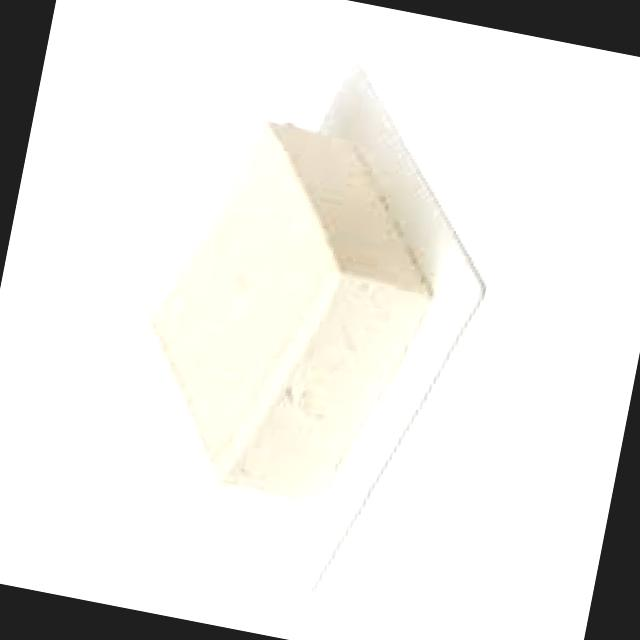tof: (90, 61, 473, 566)
